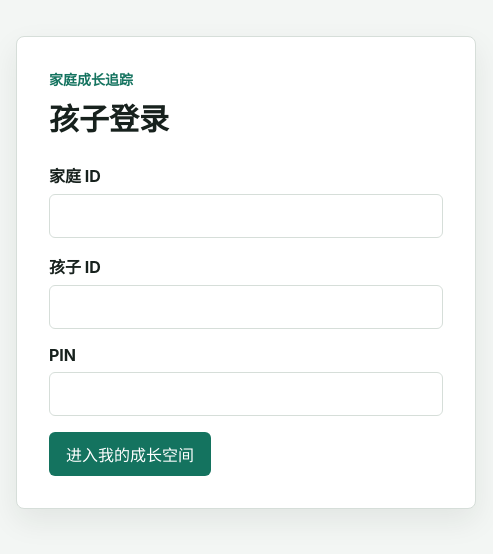
Test: child PIN login › renders a safe server error and clears only the PIN
Type "family-a" into the field labelled "家庭 ID" at (246, 216), box [49,194,443,238]
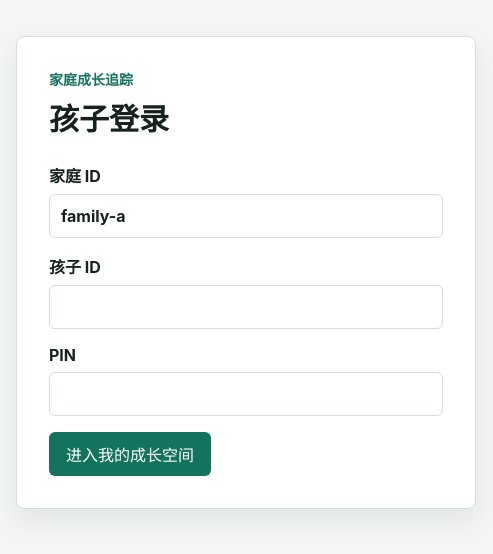
Type "child-a1" into the field labelled "孩子 ID" at (246, 306), box [49,284,443,328]
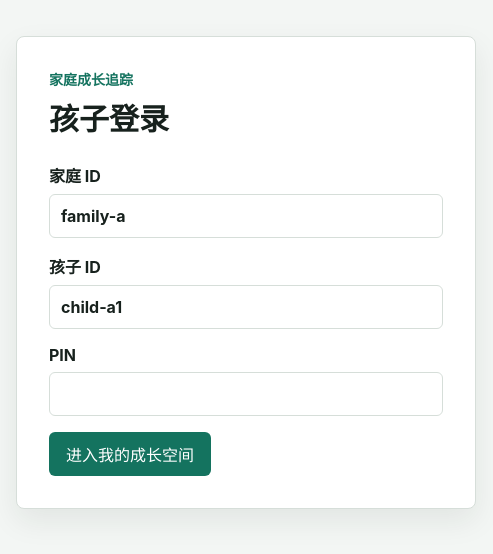
Type "1234" into the password field labelled "PIN" at (246, 394), box [49,372,443,416]
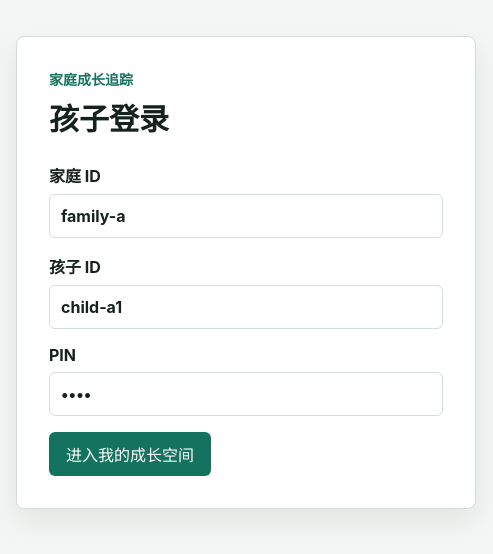
Click the button "进入我的成长空间" at (130, 454), box [49,432,211,476]
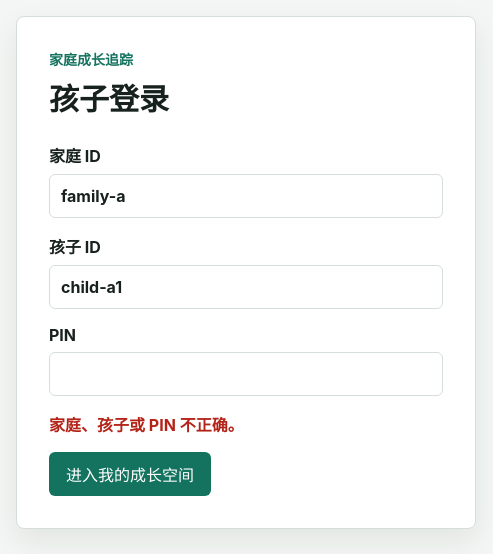
Now the message reads "家庭、孩子或 PIN 不正确。", box [49,414,244,434]
Now the password field labelled "PIN" is empty, box [49,352,443,396]
